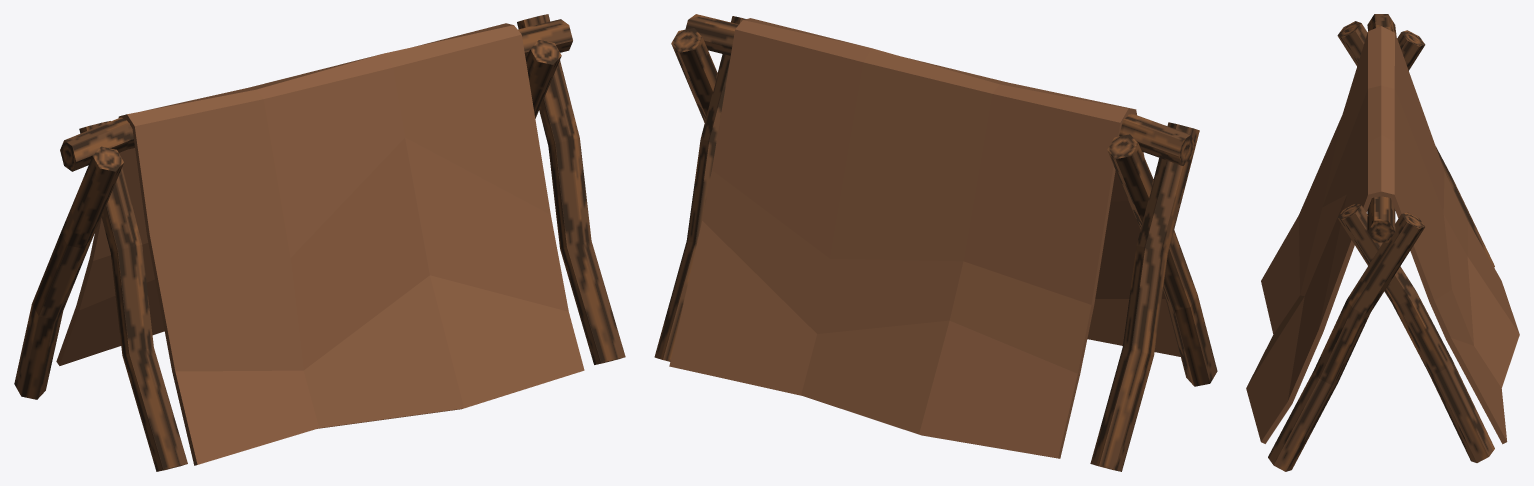
The model's file is Tent_Short.fbx.
The picture shows the model from 3 angles, left to right: view 1: azimuth 30°, elevation 25°; view 2: azimuth 150°, elevation 25°; view 3: azimuth 270°, elevation 25°; orthographic projection. The views are drawn at different scales.
Parts seen in each view (by area): view 1: Tent 1.001; view 2: Tent 1.001; view 3: Tent 1.001.
Boxes of the visible parts, x1,y1,x2,y2 form: Tent 1.001: [14, 14, 625, 471]; Tent 1.001: [654, 14, 1217, 471]; Tent 1.001: [1246, 14, 1519, 471].
Bounding box in the file's own units: 148 × 89.44 × 82.57.
